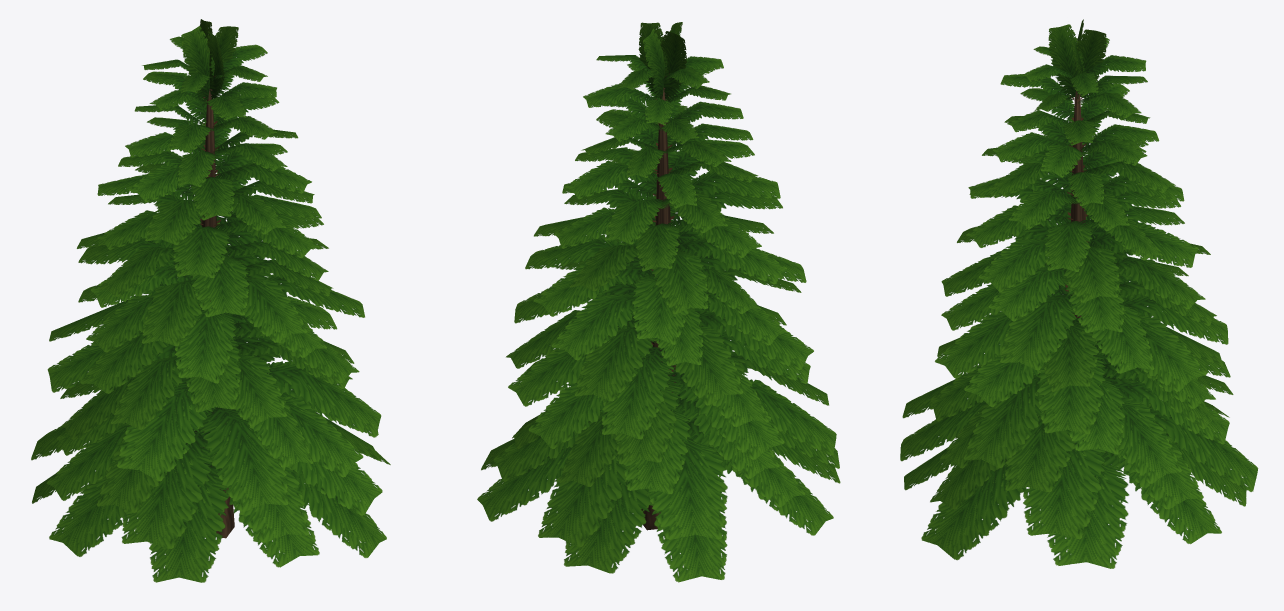
Rendered from tree_pine_3d.glb.
3 renders of one model, left to right at view 1: azimuth 30°, elevation 25°; view 2: azimuth 150°, elevation 25°; view 3: azimuth 270°, elevation 25°, orthographic. The views are drawn at different scales.
Parts seen in each view (by area): view 1: Tree_Pine_3D; view 2: Tree_Pine_3D; view 3: Tree_Pine_3D.
Part boxes in pixels (left/top/right/bottom): Tree_Pine_3D: left=31, top=19, right=390, bottom=582; Tree_Pine_3D: left=477, top=22, right=840, bottom=582; Tree_Pine_3D: left=900, top=19, right=1258, bottom=568.
Bounding box in the file's own units: 2.2 × 3.24 × 2.25.
Materials: 1 (1 with a texture image).
